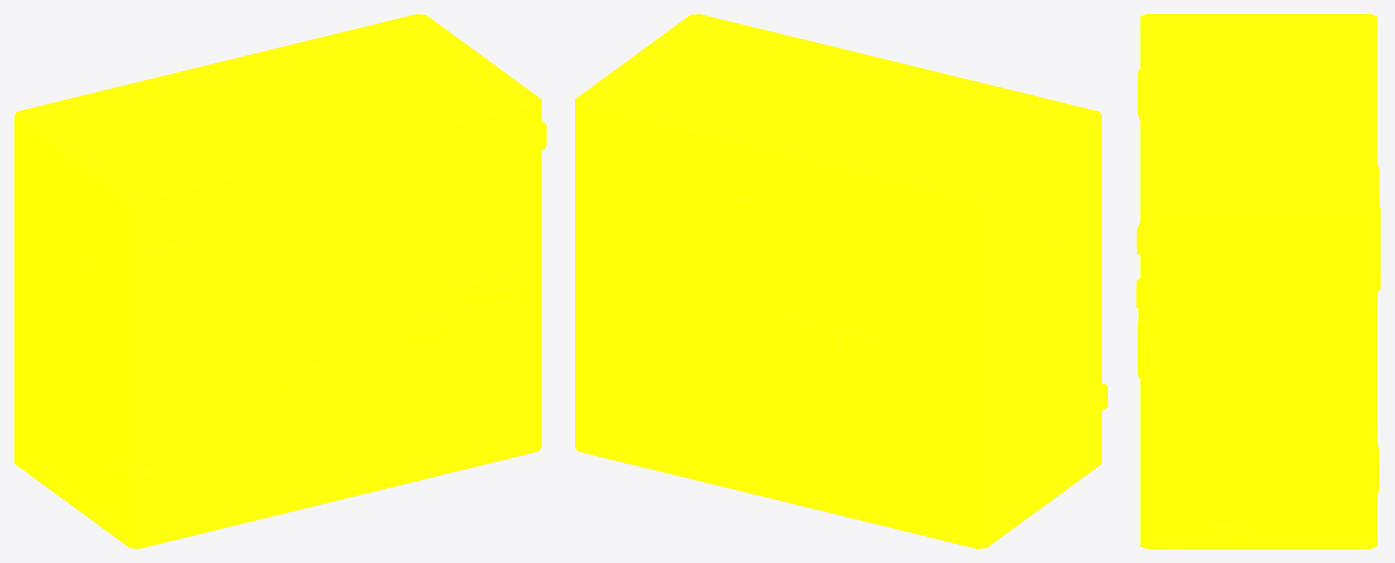
The model's file is chimney-christmas-1m.glb.
3 views of the same model, side by side, from view 1: azimuth 30°, elevation 25°; view 2: azimuth 150°, elevation 25°; view 3: azimuth 270°, elevation 25° (orthographic). The views are drawn at different scales.
Parts seen in each view (by area): view 1: chimney_christmas_1m; view 2: chimney_christmas_1m; view 3: chimney_christmas_1m.
Boxes of the visible parts, bbox=[...] form: chimney_christmas_1m: bbox=[14, 14, 546, 548]; chimney_christmas_1m: bbox=[575, 14, 1107, 548]; chimney_christmas_1m: bbox=[1136, 14, 1380, 548].
Size of the model in its own units: 1.26 by 1 by 0.6522.
1 material, 1 textured.
